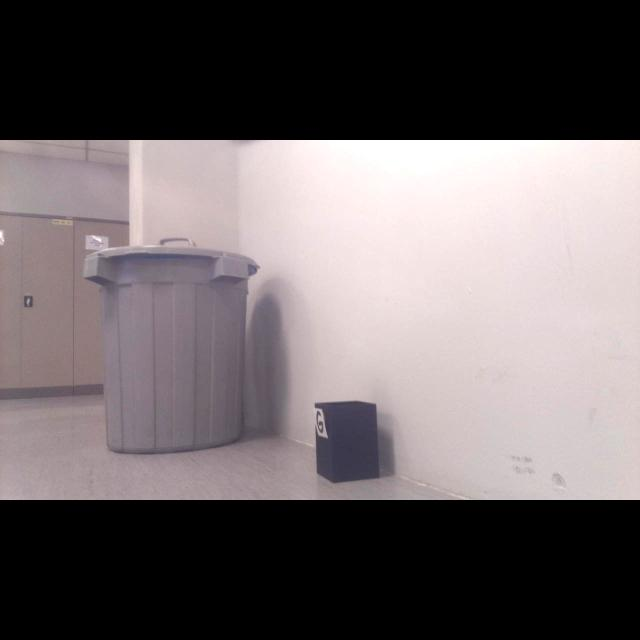G: (316, 411, 324, 433)
